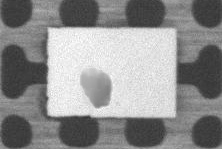DIE_INK: (79, 68, 113, 110)
